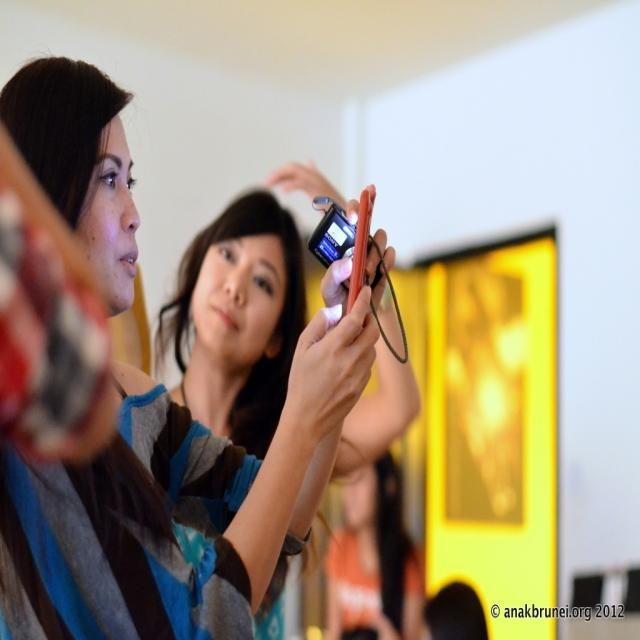Mobile-phone: (306, 203, 386, 294), (351, 188, 370, 313)
